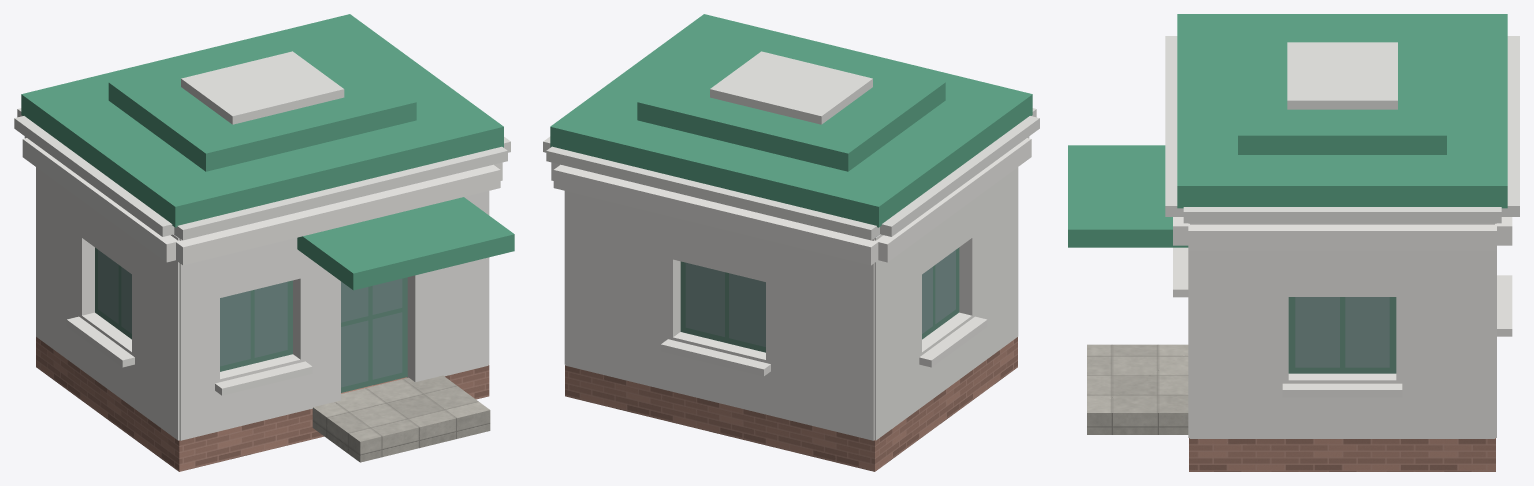
The picture shows the model from 3 angles, left to right: view 1: azimuth 30°, elevation 25°; view 2: azimuth 150°, elevation 25°; view 3: azimuth 270°, elevation 25°; orthographic projection. The views are drawn at different scales.
Parts seen in each view (by area): view 1: guard__greencanopy, guard__panel, guard__cap, guard__band, guard__threshold-front, guard__glass, guard__brick, guard__frame, guard__sill, guard__sideglass; view 2: guard__panel, guard__greencanopy, guard__cap, guard__brick, guard__band, guard__sideglass, guard__sill, guard__frame; view 3: guard__greencanopy, guard__panel, guard__cap, guard__brick, guard__threshold-front, guard__band, guard__sideglass, guard__sill, guard__frame.
Part boxes in pixels (box(x1,y1,x2,y2)): guard__greencanopy: box(21, 14, 514, 290); guard__panel: box(36, 167, 489, 440); guard__cap: box(14, 51, 510, 240); guard__band: box(22, 136, 502, 265); guard__threshold-front: box(312, 375, 490, 462); guard__glass: box(220, 278, 402, 387); guard__brick: box(36, 337, 489, 471); guard__frame: box(95, 247, 407, 392); guard__sill: box(66, 316, 312, 395); guard__sideglass: box(98, 250, 131, 333); guard__panel: box(564, 167, 1018, 440); guard__greencanopy: box(550, 14, 1032, 227); guard__cap: box(543, 51, 1039, 240); guard__brick: box(565, 337, 1017, 471); guard__band: box(551, 136, 1031, 265); guard__sideglass: box(685, 250, 955, 346); guard__sill: box(661, 316, 987, 376); guard__frame: box(680, 247, 959, 352); guard__greencanopy: box(1068, 14, 1507, 247); guard__panel: box(1188, 223, 1496, 438); guard__cap: box(1165, 36, 1519, 223); guard__brick: box(1189, 438, 1495, 471); guard__threshold-front: box(1087, 344, 1188, 434); guard__band: box(1173, 217, 1512, 250); guard__sideglass: box(1295, 297, 1389, 367); guard__sill: box(1173, 247, 1512, 397); guard__frame: box(1288, 297, 1396, 373).
Size of the model in its own units: 5.62 by 4.59 by 5.88.
11 materials, 2 textured.
